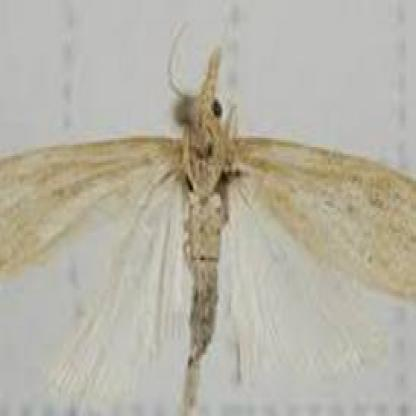stem-borer: (0, 41, 416, 401)
